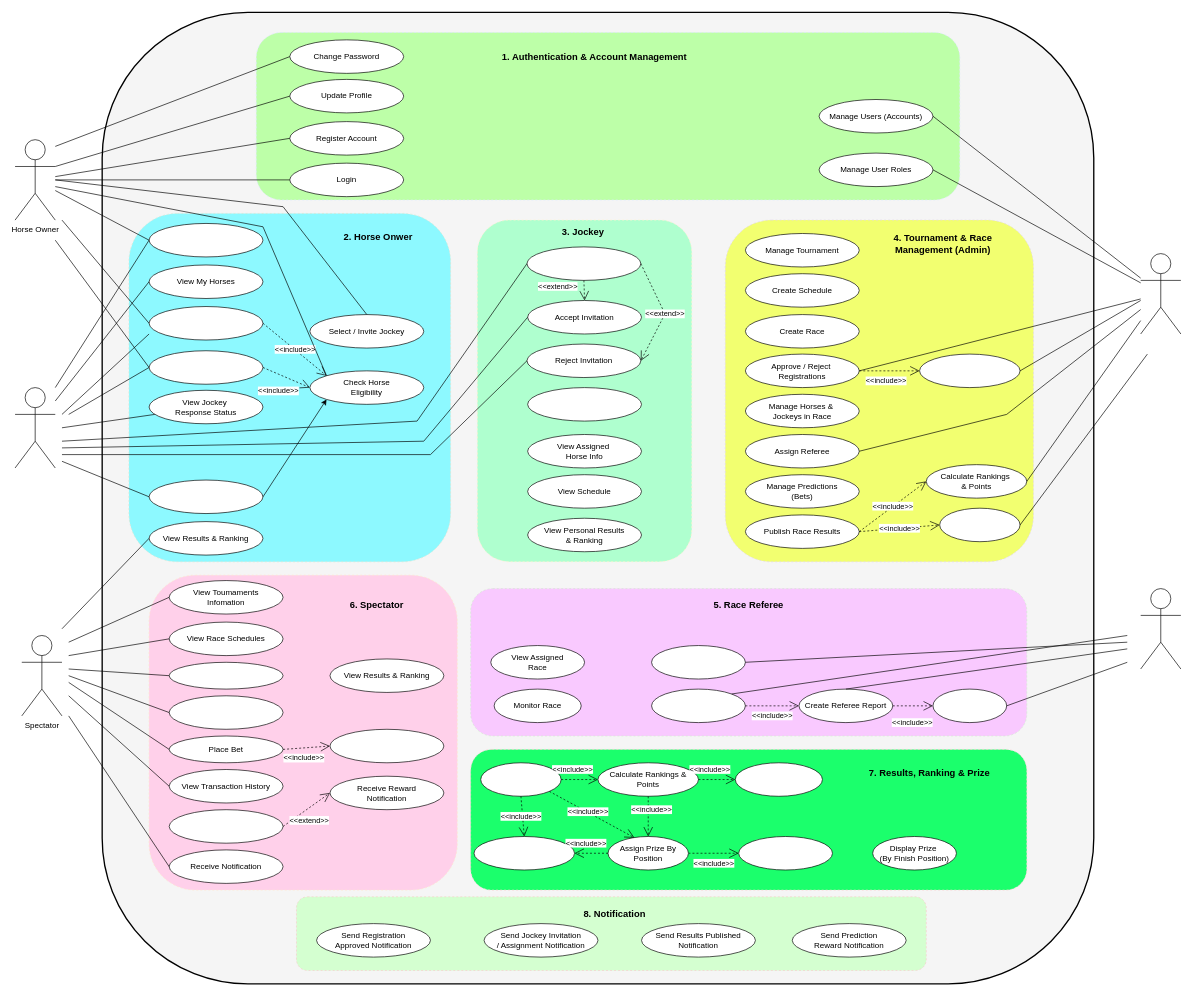
This 1197x996 diagram has some shape labels left out. The shapes that lost their labels are listed below. From the top down, each one's box as (x1, y1, x2, y2) in pixels, then its label:
(148, 223, 263, 257): Manage Horses
(526, 246, 641, 280): View Invitations (Assignments)
(1140, 253, 1181, 334): Admin
(148, 306, 263, 340): Register Horse To Tournament/Race
(148, 350, 263, 384): Confirm Horse To Race
(919, 353, 1020, 388): Notify & Registration Result
(527, 387, 642, 421): View Assigned Races
(14, 387, 55, 468): Jockey
(148, 479, 263, 514): View Horses Schedule
(939, 508, 1020, 542): Notify Result Publication
(1140, 588, 1181, 669): Race Referee
(169, 662, 283, 689): View Wallet
(651, 645, 745, 679): Submit Referee Report
(169, 695, 283, 729): Predict Race Result
(651, 688, 745, 723): Record Violations
(932, 688, 1007, 723): Confirm Race Results
(329, 729, 444, 763): Check Wallet & Prediction Time
(480, 762, 561, 796): Record Race Results
(735, 762, 822, 796): Calculate Overall Rankings
(169, 809, 283, 843): View Prediction Result
(473, 836, 575, 870): Publish Rankings
(738, 836, 832, 870): Links Results With Prize Structure
